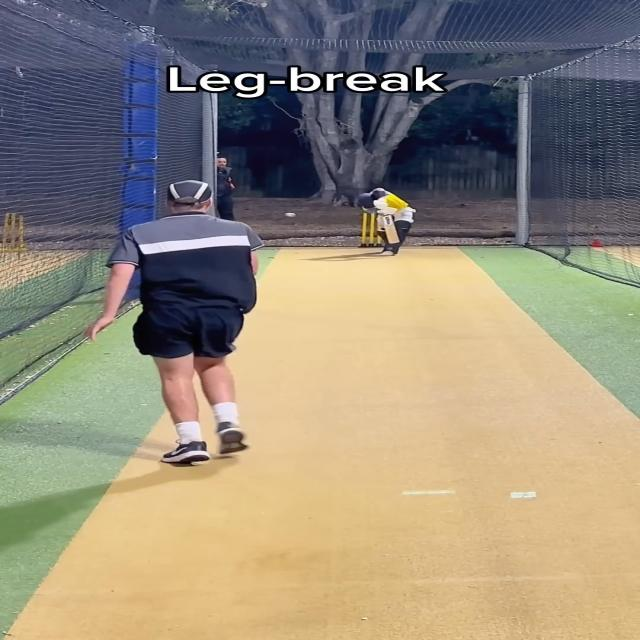Cricket ball: (285, 212, 297, 218)
